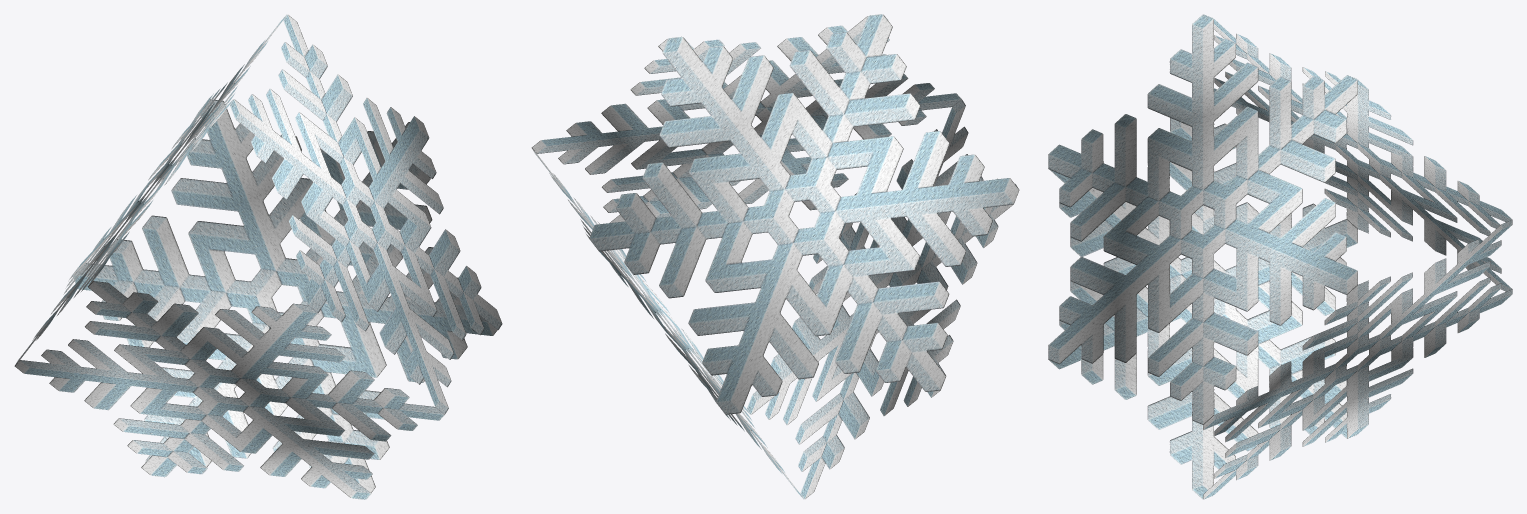
File: TruncatedTetrahedron44.gltf
3 renders of one model, left to right at view 1: azimuth 30°, elevation 25°; view 2: azimuth 150°, elevation 25°; view 3: azimuth 270°, elevation 25°, orthographic.
Visible parts, largest first — view 1: 0TruncatedTetrahedron; view 2: 0TruncatedTetrahedron; view 3: 0TruncatedTetrahedron.
Part boxes in pixels (<box>): 0TruncatedTetrahedron: <box>14,14,502,499</box>; 0TruncatedTetrahedron: <box>531,14,1019,499</box>; 0TruncatedTetrahedron: <box>1048,14,1512,499</box>.
Bounding box in the file's own units: 2.12 × 2.12 × 2.12.
Materials: 1 (1 with a texture image).
